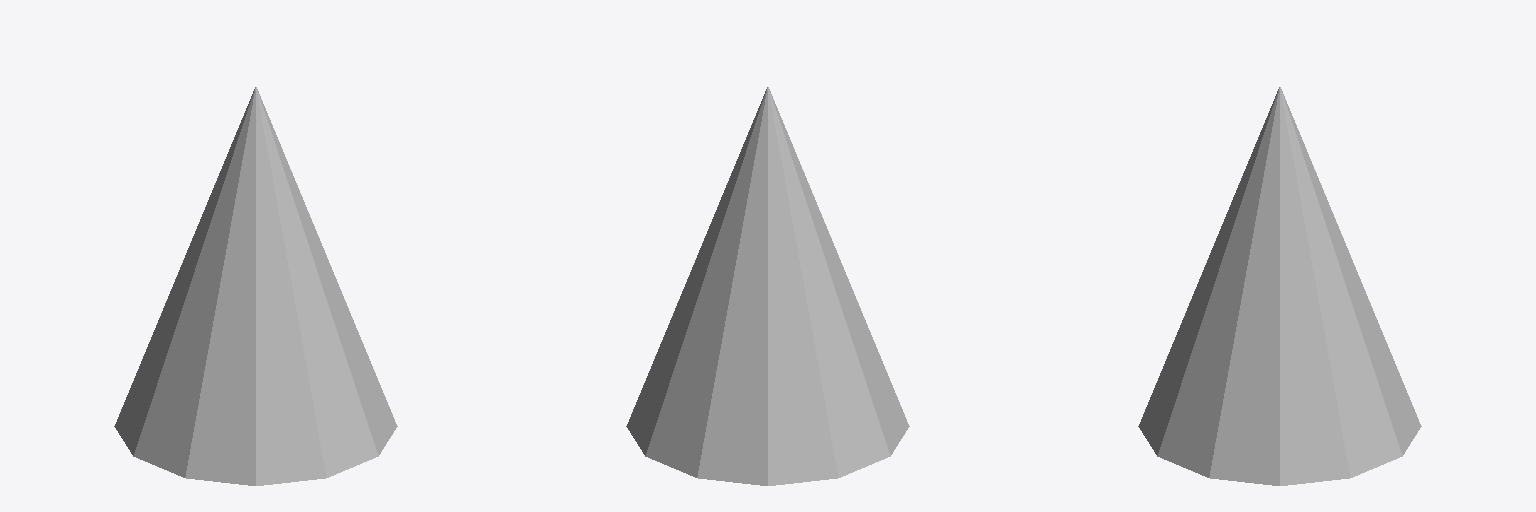
Rendered from positiontab.obj.
The picture shows the model from 3 angles: view 1: azimuth 30°, elevation 25°; view 2: azimuth 150°, elevation 25°; view 3: azimuth 270°, elevation 25°; orthographic projection.
Visible parts, largest first — view 1: positiontab1.obj; view 2: positiontab1.obj; view 3: positiontab1.obj.
Boxes of the visible parts, x1,y1,x2,y2 form: positiontab1.obj: [114, 87, 397, 485]; positiontab1.obj: [626, 87, 909, 485]; positiontab1.obj: [1138, 87, 1421, 485].
Size of the model in its own units: 0.3007 by 0.3996 by 0.3007.